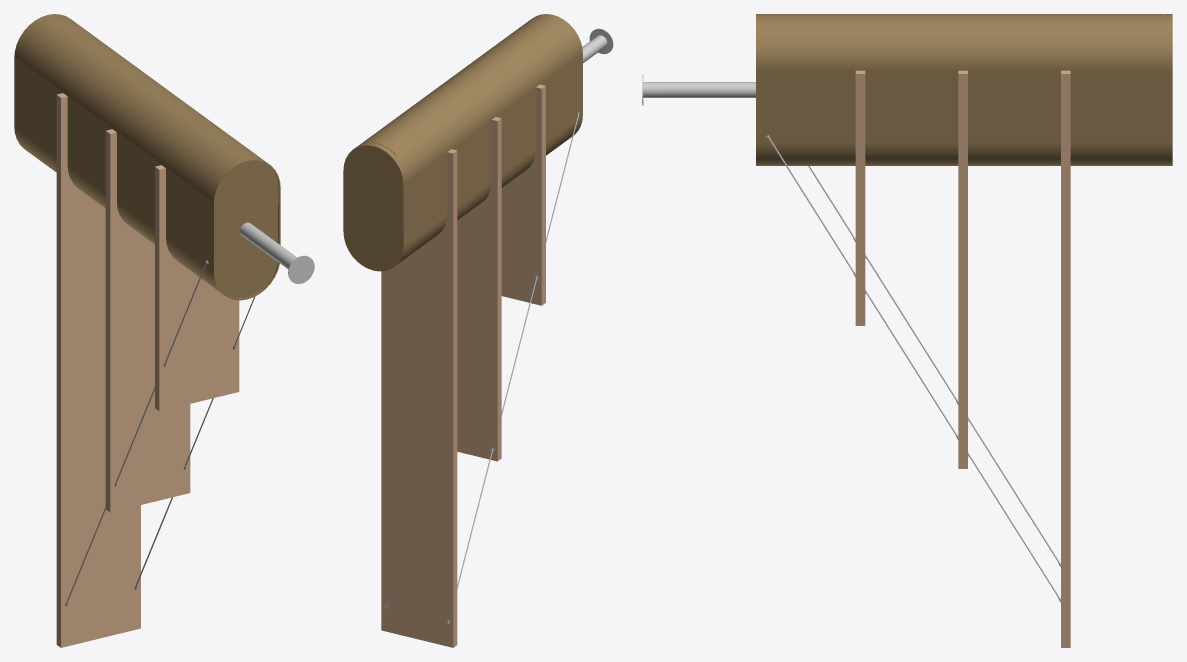
File: trabucco.glb
3 renders of one model, left to right at view 1: azimuth 30°, elevation 25°; view 2: azimuth 150°, elevation 25°; view 3: azimuth 270°, elevation 25°, orthographic. The views are drawn at different scales.
Parts seen in each view (by area): view 1: PIALLACCIO MENSOLA 1, PIALLACCIO MOBILE, PIALLACCIO MENSOLA 2ù, PIALLACCIO CASSETTO, PIALLACCIO MENSOLA 3, PALO, CAVO 2; view 2: PIALLACCIO MENSOLA 1, PIALLACCIO MOBILE, PIALLACCIO MENSOLA 2ù, PIALLACCIO CASSETTO, PIALLACCIO MENSOLA 3, STRUTTURA MOBILE, CAVO 2, PALO; view 3: PIALLACCIO MOBILE, PIALLACCIO CASSETTO, PIALLACCIO MENSOLA 1, PIALLACCIO MENSOLA 2ù, PIALLACCIO MENSOLA 3, PALO, CAVO 1, CAVO 2.
Boxes of the visible parts, <box> form: PIALLACCIO MENSOLA 1: <box>56,93,140,647</box>; PIALLACCIO MOBILE: <box>14,14,280,300</box>; PIALLACCIO MENSOLA 2ù: <box>105,129,190,512</box>; PIALLACCIO CASSETTO: <box>18,16,255,193</box>; PIALLACCIO MENSOLA 3: <box>155,165,239,411</box>; PALO: <box>240,222,314,283</box>; CAVO 2: <box>66,261,207,602</box>; PIALLACCIO MENSOLA 1: <box>381,149,457,647</box>; PIALLACCIO MOBILE: <box>343,14,582,271</box>; PIALLACCIO MENSOLA 2ù: <box>457,117,501,461</box>; PIALLACCIO CASSETTO: <box>357,22,571,181</box>; PIALLACCIO MENSOLA 3: <box>501,84,545,305</box>; STRUTTURA MOBILE: <box>344,146,402,270</box>; CAVO 2: <box>457,112,579,589</box>; PALO: <box>582,28,613,62</box>; PIALLACCIO MOBILE: <box>756,14,1172,165</box>; PIALLACCIO CASSETTO: <box>783,14,1164,70</box>; PIALLACCIO MENSOLA 1: <box>1061,70,1070,647</box>; PIALLACCIO MENSOLA 2ù: <box>958,70,967,468</box>; PIALLACCIO MENSOLA 3: <box>855,70,865,325</box>; PALO: <box>642,74,755,105</box>; CAVO 1: <box>767,135,1059,598</box>; CAVO 2: <box>808,166,1059,563</box>.
Bounding box in the file's own units: 0.61 × 4.26 × 3.36.
